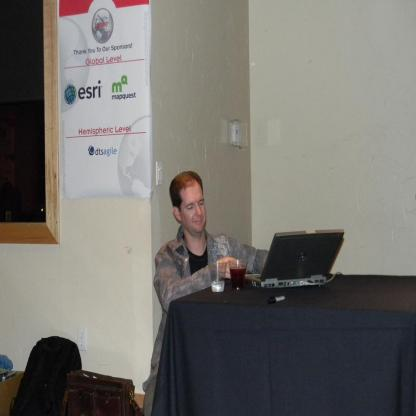board: (248, 224, 344, 297)
